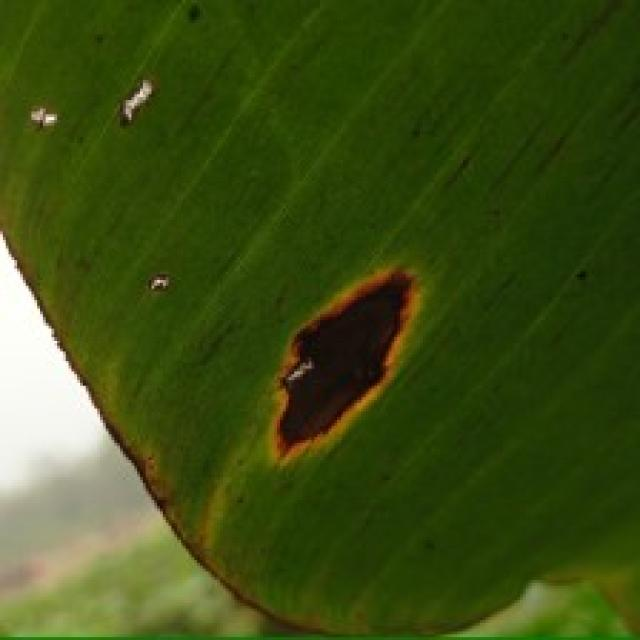Bacterial_spot: (72, 403, 358, 637), (232, 242, 430, 497), (97, 69, 167, 156), (0, 102, 70, 147), (131, 256, 187, 308), (172, 0, 217, 33)
